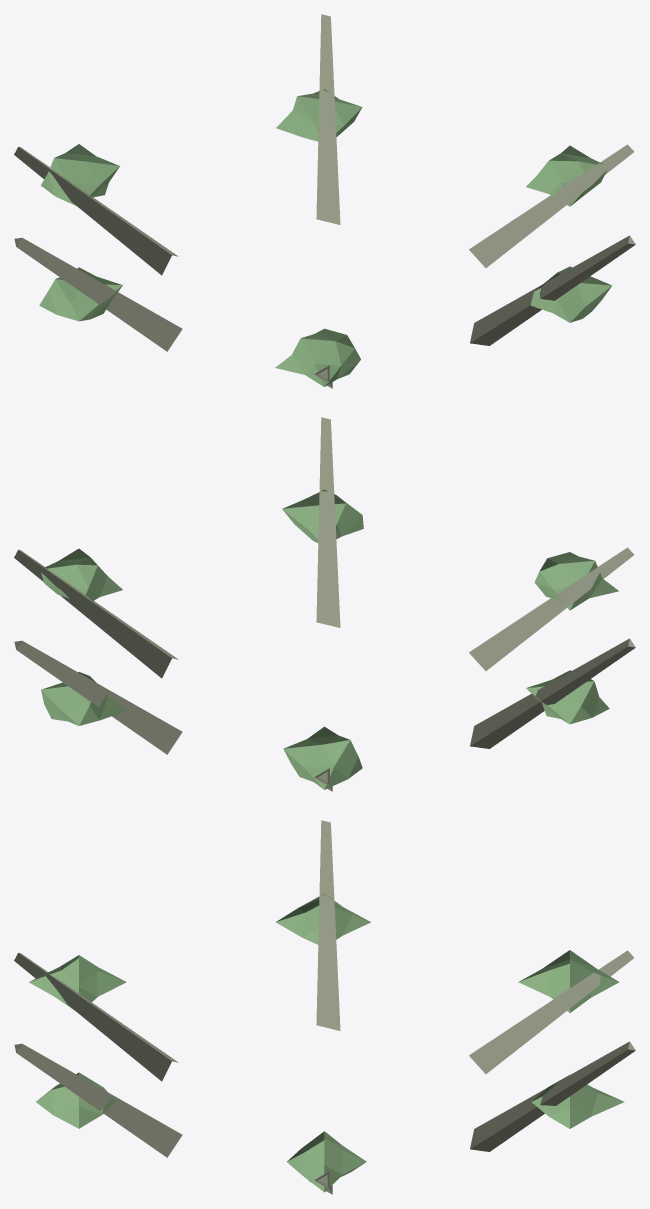
The model's file is bramble_v27.glb.
3 renders of one model, top to bottom at view 1: azimuth 30°, elevation 25°; view 2: azimuth 150°, elevation 25°; view 3: azimuth 270°, elevation 25°, orthographic.
Visible parts, largest first — view 1: lod0; view 2: lod0; view 3: lod0.
Part boxes in pixels (x1,y1,x2,y2): lod0: (14,14,635,388); lod0: (14,417,635,791); lod0: (14,820,635,1194).
Size of what is drawn, in the model's own units: 1.11 by 0.2562 by 0.9691.
